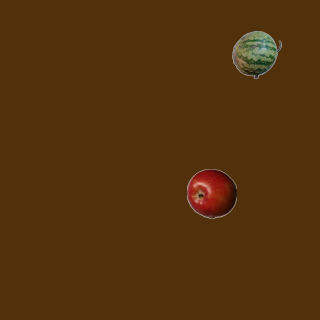Apple Braeburn: (186, 168, 236, 218)
Watermelon: (231, 29, 281, 79)
